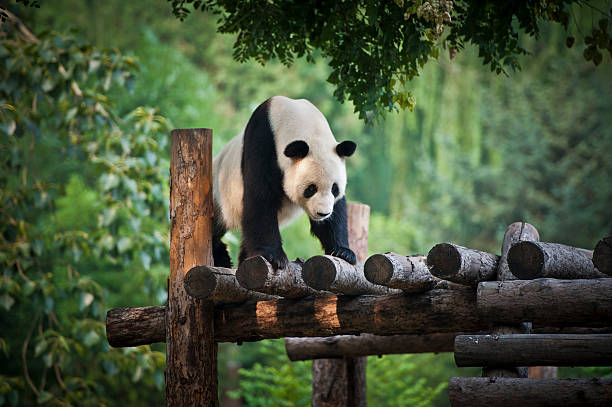panda: (276, 124, 372, 237)
